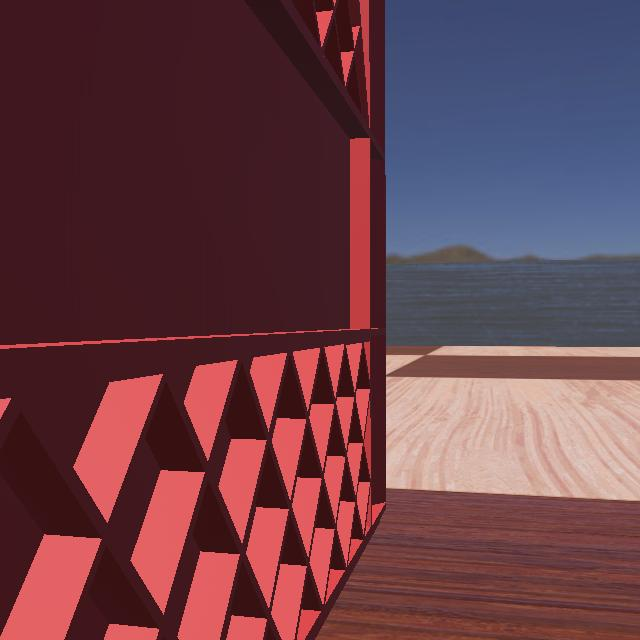plastic-crate: (1, 1, 640, 640)
